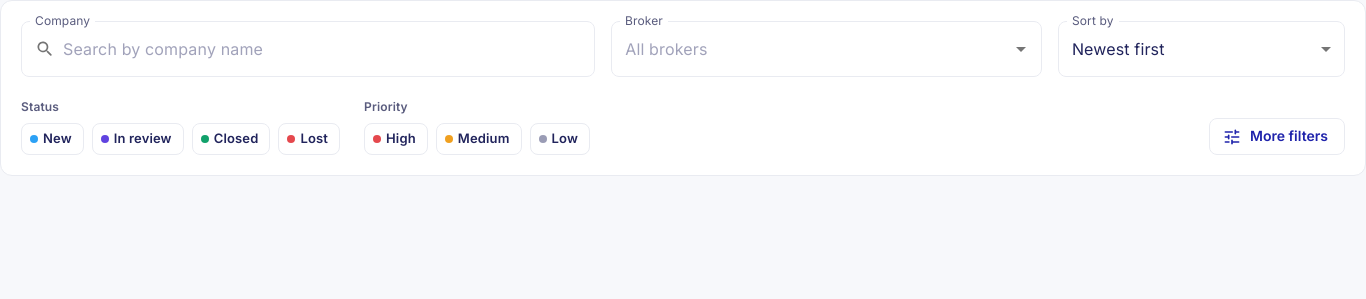
Scenario: SubmissionFilters on desktop › keeps dates and has-documents/notes behind "More filters"
Expected: the field labelled "Created from" is not shown
Click the button "More filters" at (1277, 137), box [1209, 118, 1345, 155]
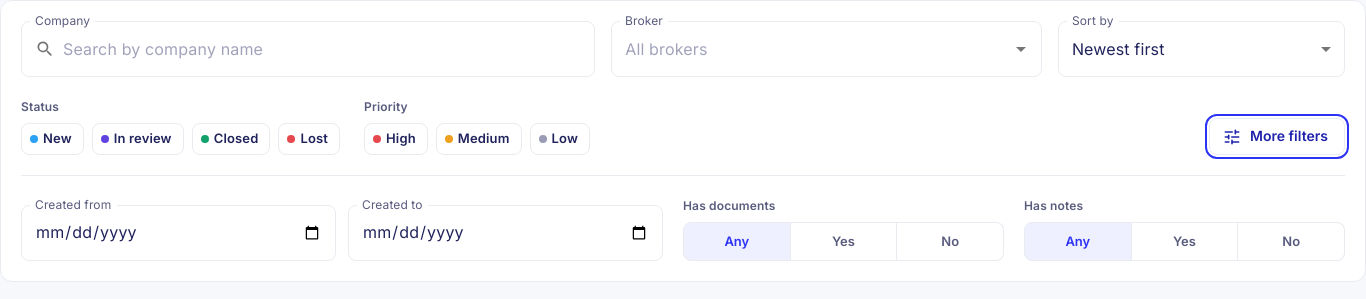
Expected: the date field labelled "Created from" is shown, [21, 205, 336, 261]
